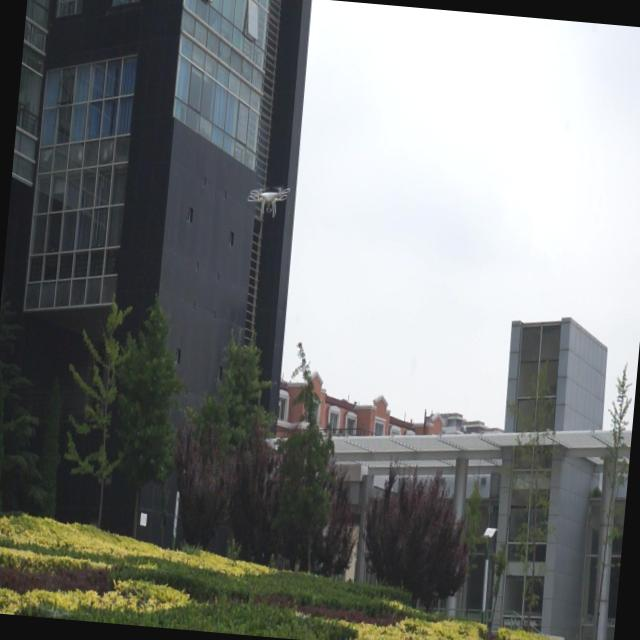drone: (242, 178, 292, 224)
